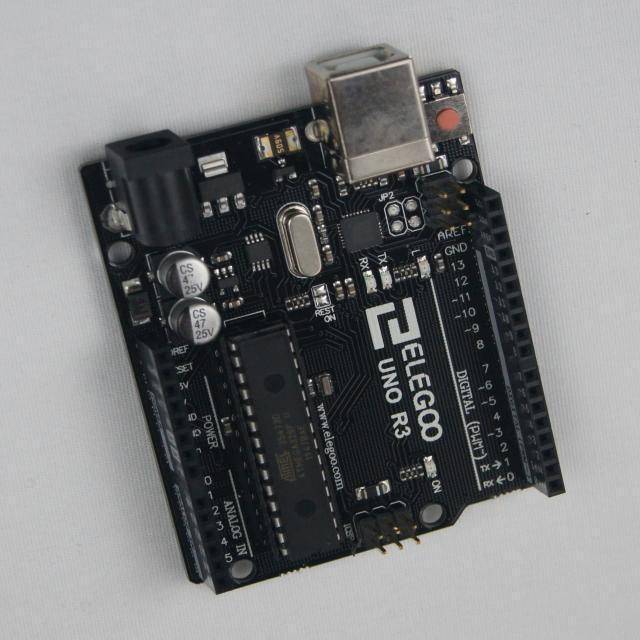Arduino Uno -Black-: (82, 46, 564, 594)
